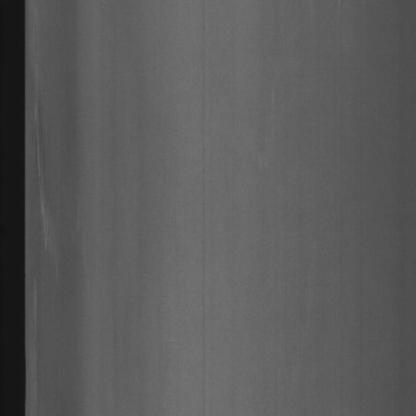silk_spot: (30, 64, 61, 264)
